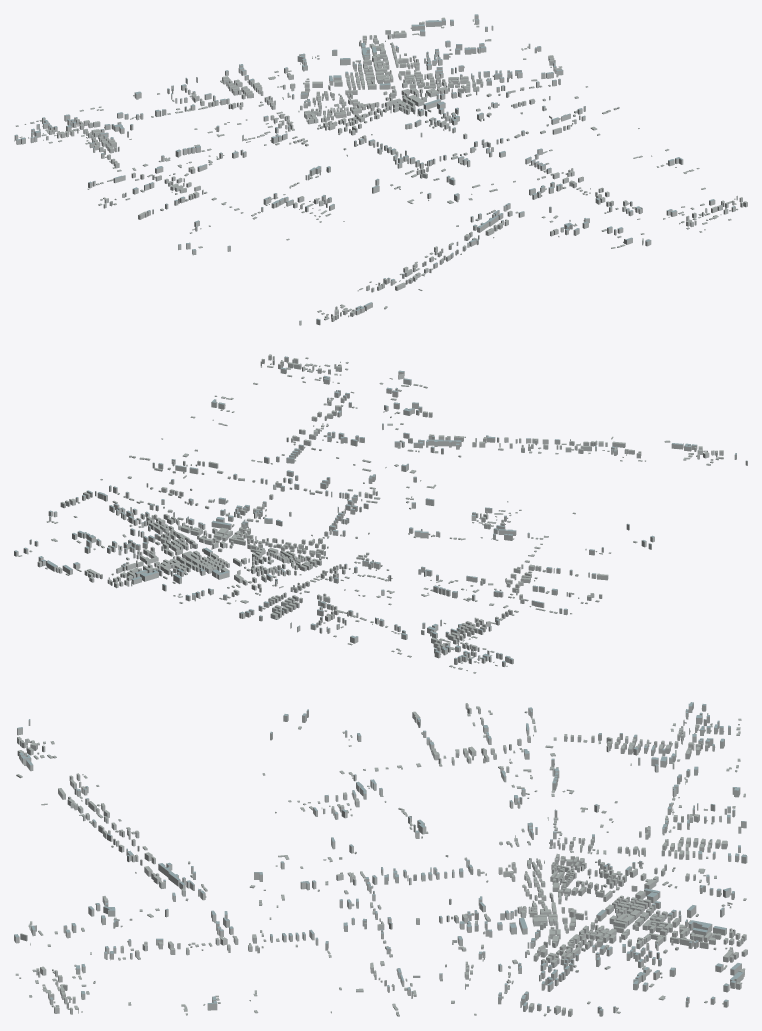
Rendered from far.glb.
3 views of the same model, one above another, from view 1: azimuth 30°, elevation 25°; view 2: azimuth 150°, elevation 25°; view 3: azimuth 270°, elevation 25° (orthographic). The views are drawn at different scales.
Bounding box in the file's own units: 2092 × 24.3 × 2096.
